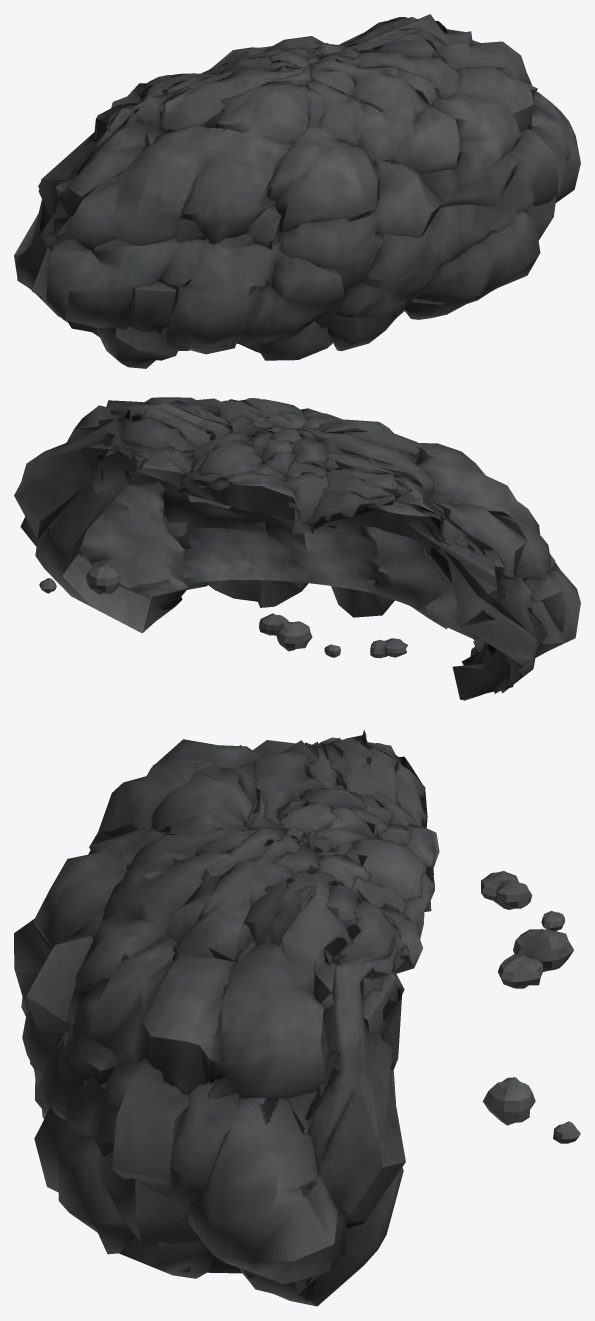
Rendered from miller_cave_ledge.glb.
3 renders of one model, top to bottom at view 1: azimuth 30°, elevation 25°; view 2: azimuth 150°, elevation 25°; view 3: azimuth 270°, elevation 25°, orthographic. The views are drawn at different scales.
Parts seen in each view (by area): view 1: miller_cave_ledge_mesh; view 2: miller_cave_ledge_mesh; view 3: miller_cave_ledge_mesh.
Part boxes in pixels (box(x1,y1,x2,y2)): miller_cave_ledge_mesh: box(14, 14, 580, 368); miller_cave_ledge_mesh: box(14, 397, 580, 700); miller_cave_ledge_mesh: box(14, 729, 580, 1306).
Size of the model in its own units: 19.13 by 8.13 by 11.47.
1 material, 1 textured.
